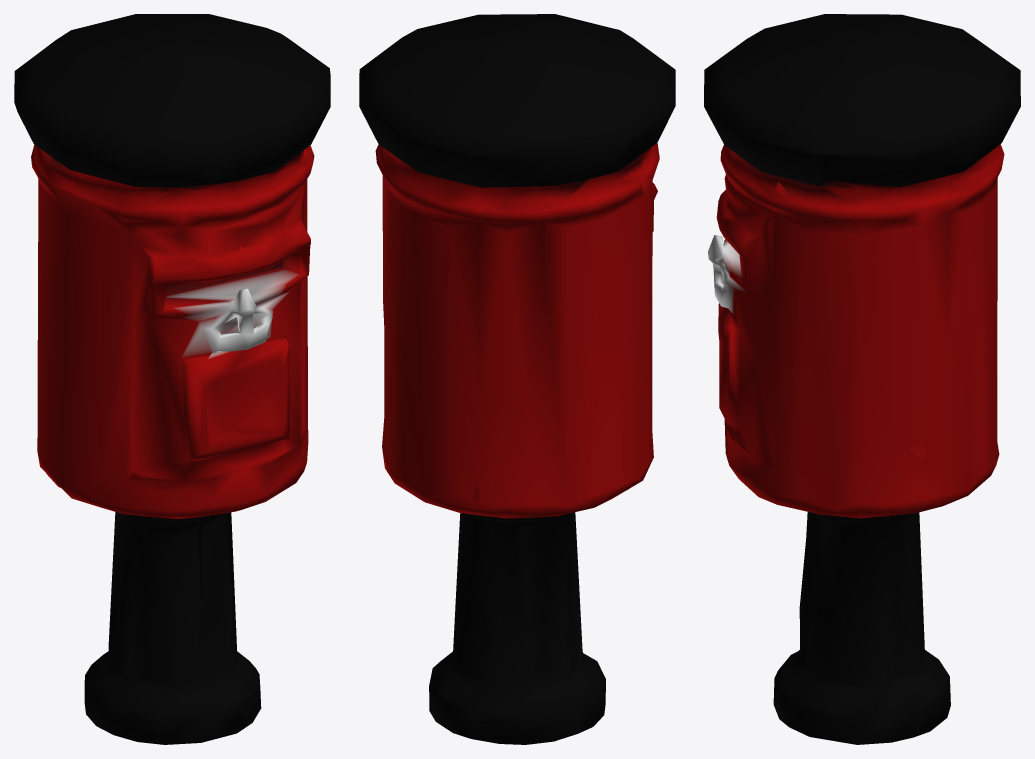
The model's file is gen3d-post-box-lod1.glb.
3 renders of one model, left to right at view 1: azimuth 30°, elevation 25°; view 2: azimuth 150°, elevation 25°; view 3: azimuth 270°, elevation 25°, orthographic.
Visible parts, largest first — view 1: part_0; view 2: part_0; view 3: part_0.
Part boxes in pixels (x1,y1,x2,y2): part_0: (14,14,330,744); part_0: (359,14,675,744); part_0: (704,14,1020,744).
Size of the model in its own units: 0.4306 by 0.9986 by 0.4309.
